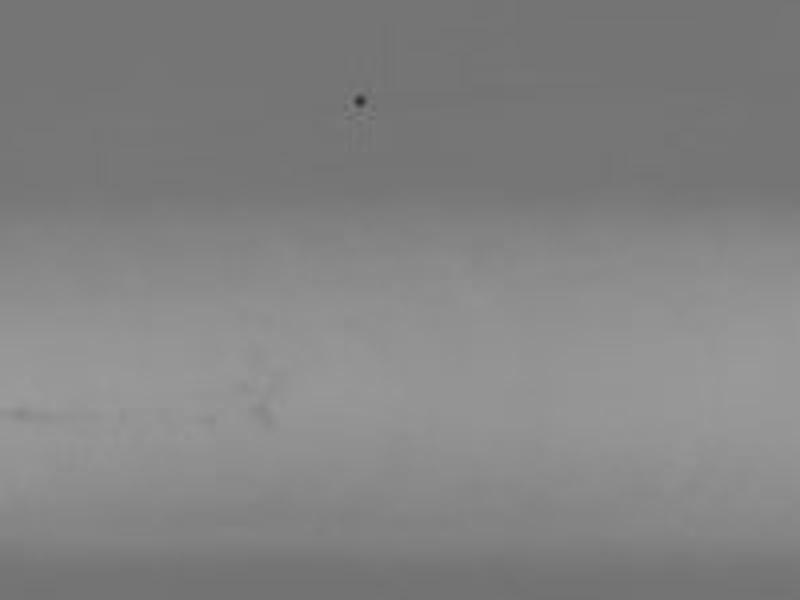defect: (353, 95, 365, 106)
